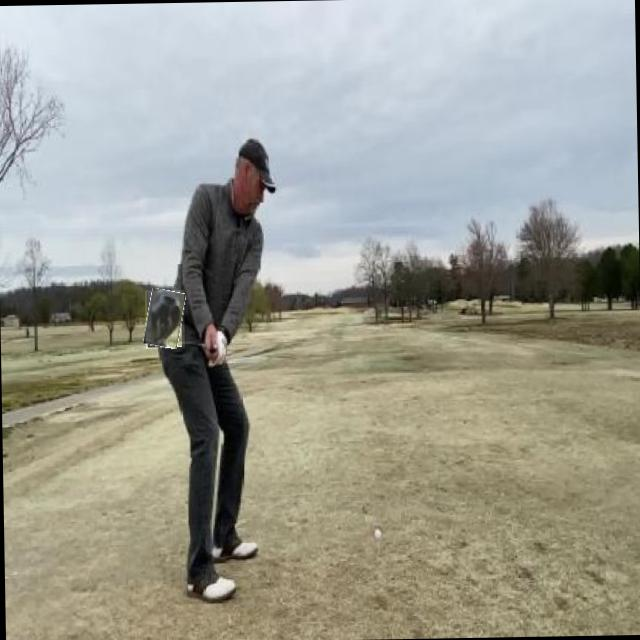club head: (144, 289, 184, 348)
